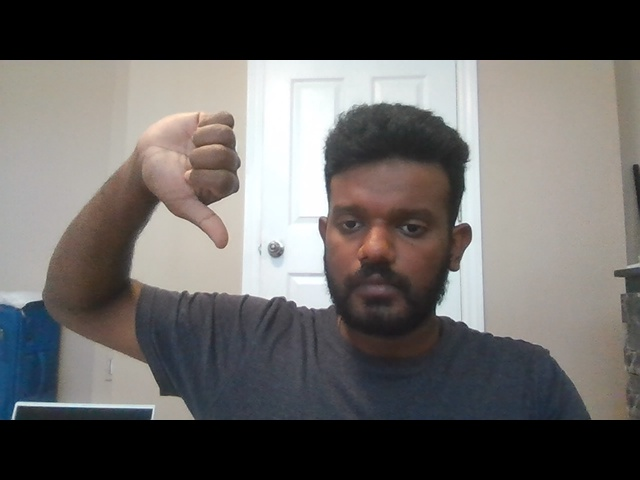no: (136, 107, 246, 251)
